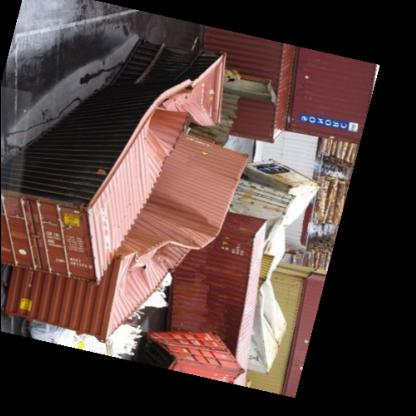Damage: (99, 39, 252, 171), (98, 188, 228, 326), (245, 168, 292, 368)
